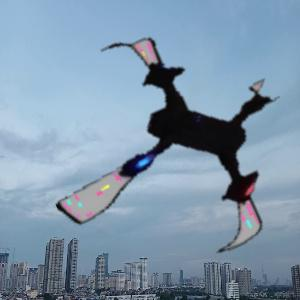drone: (45, 26, 299, 280)
